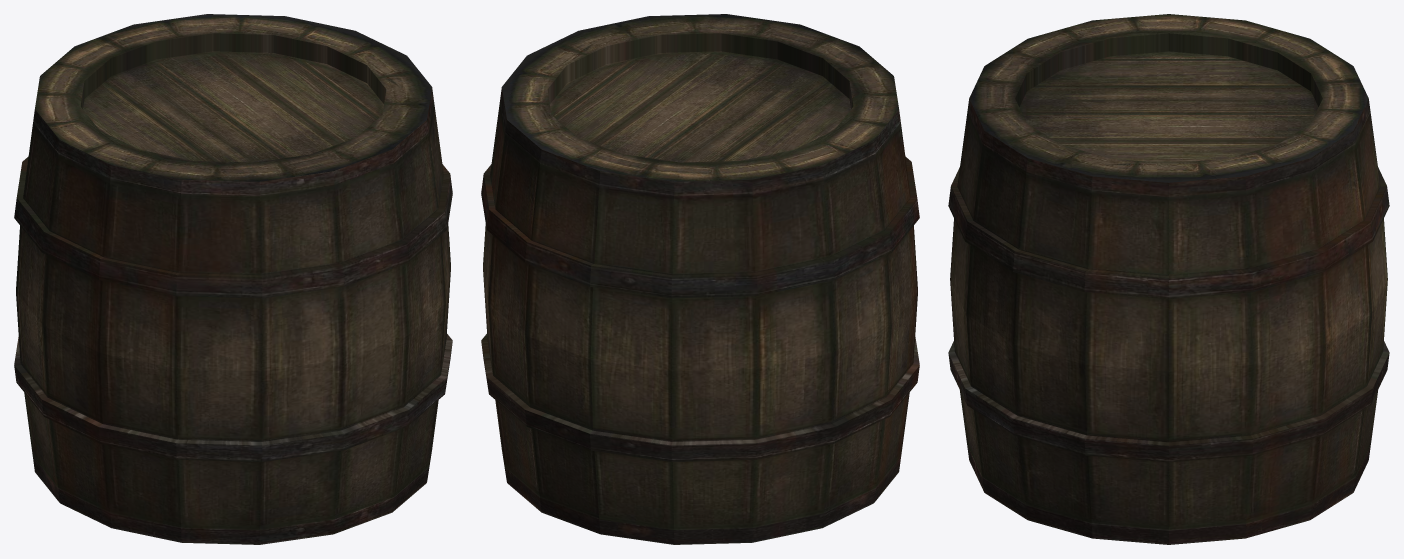
The model's file is bARRIL.fbx.
3 renders of one model, left to right at view 1: azimuth 30°, elevation 25°; view 2: azimuth 150°, elevation 25°; view 3: azimuth 270°, elevation 25°, orthographic.
Visible parts, largest first — view 1: Cylinder; view 2: Cylinder; view 3: Cylinder.
Boxes of the visible parts, <box> form: Cylinder: <box>14,14,452,544</box>; Cylinder: <box>481,14,919,544</box>; Cylinder: <box>948,14,1389,544</box>.
Size of the model in its own units: 223 by 202 by 223.
1 material, 1 textured.
